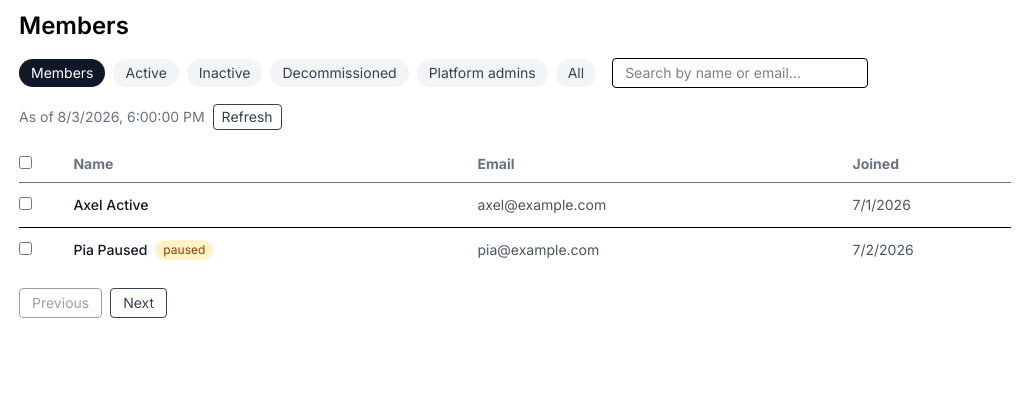
it: AdminMembersList — selection, page-scoped and explicit (FEAT-H039 STORY-2) › row checkboxes and select-page; the count is visible; no cross-page select-all exists
Step 1. Click the checkbox named "Select page" → [26, 162], box [19,156,32,169]
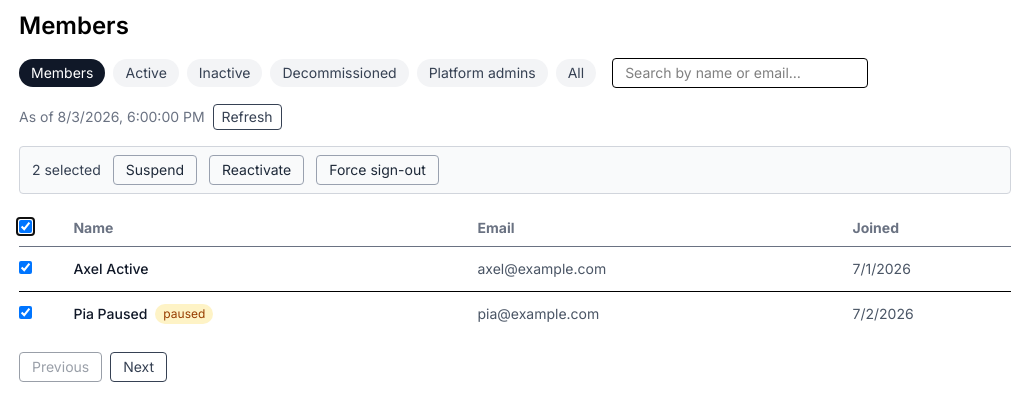
Expected: the text with test id "selection-count" reads "2 selected", [32,160,101,180]
